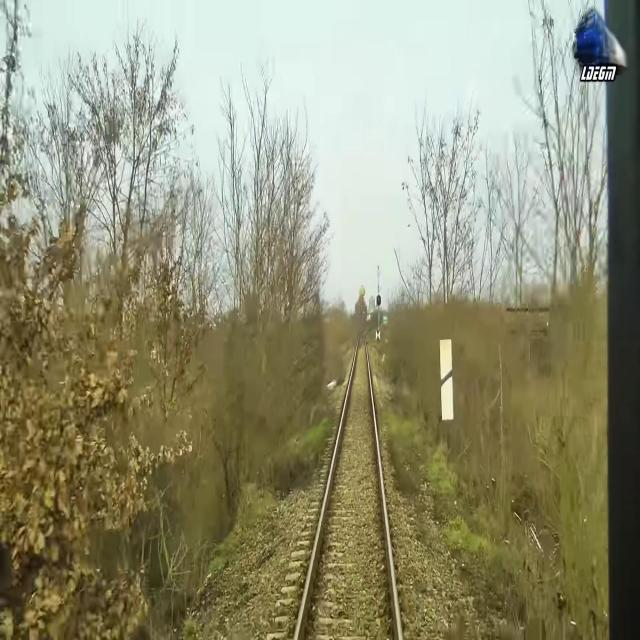rail-track: (298, 330, 397, 639)
